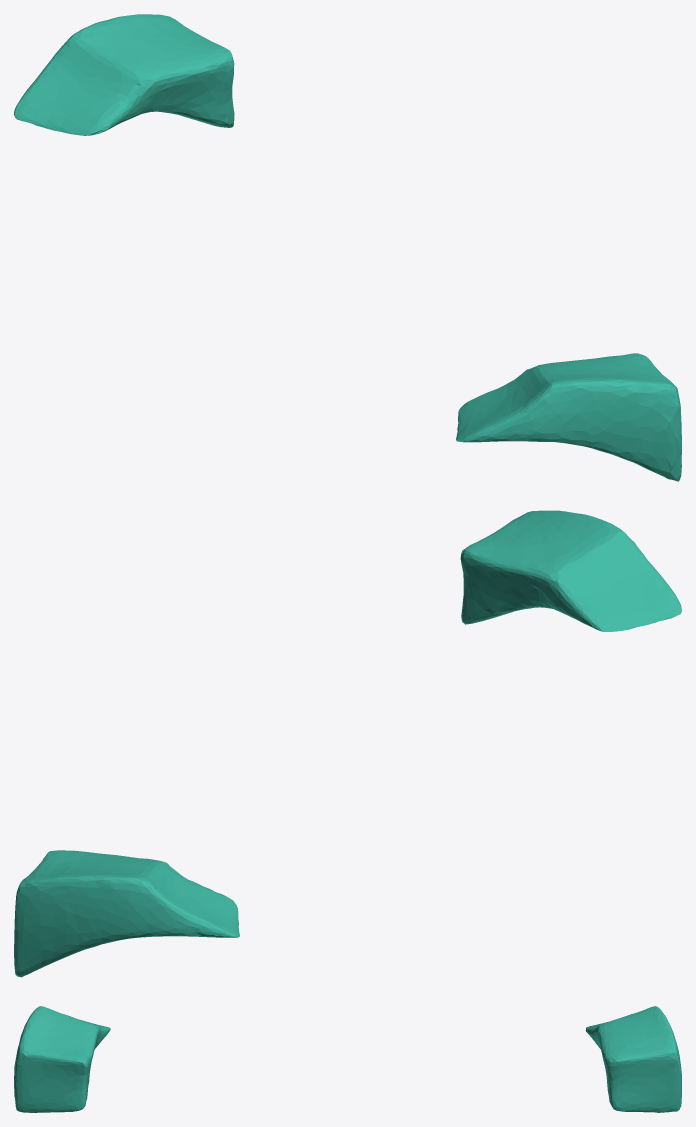
3 views of the same model, one above another, from view 1: azimuth 30°, elevation 25°; view 2: azimuth 150°, elevation 25°; view 3: azimuth 270°, elevation 25° (orthographic). The views are drawn at different scales.
Parts seen in each view (by area): view 1: 677.obj; view 2: 677.obj; view 3: 677.obj.
Boxes of the visible parts, x1,y1,x2,y2 form: 677.obj: (14,14,681,481); 677.obj: (14,510,681,977); 677.obj: (14,1006,681,1112).
Bounding box in the file's own units: 2318 × 1219 × 10140.
